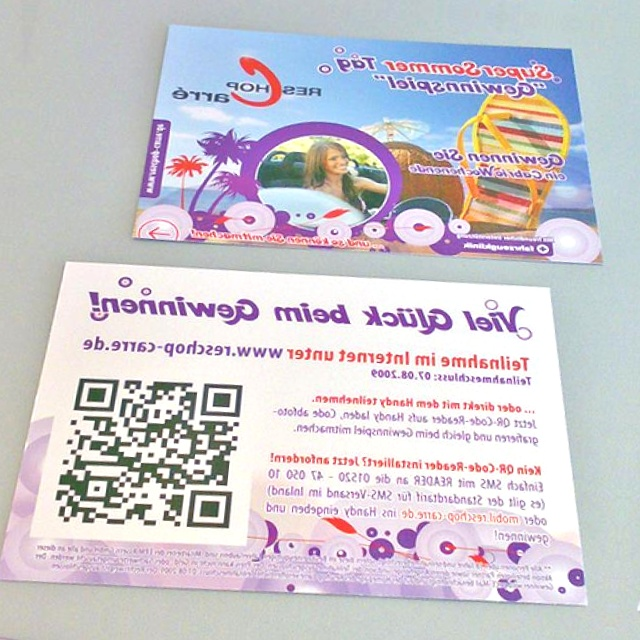qr-code: (54, 368, 243, 539)
